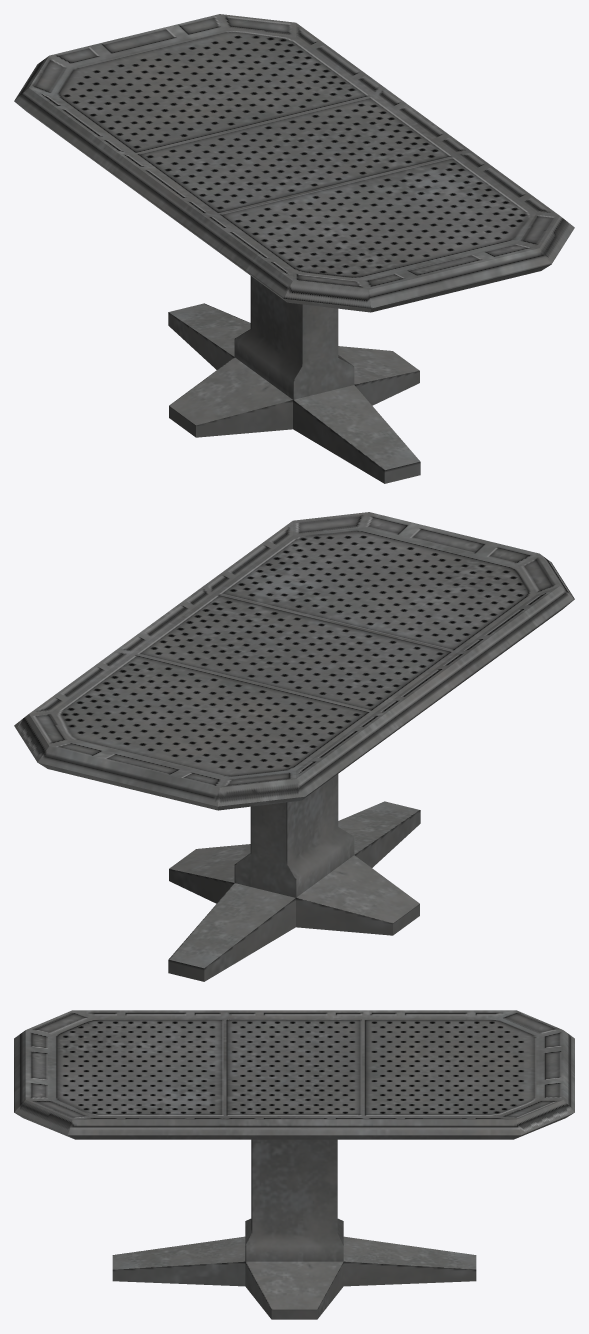
File: Obj_SurgicalTable.FBX
3 renders of one model, top to bottom at view 1: azimuth 30°, elevation 25°; view 2: azimuth 150°, elevation 25°; view 3: azimuth 270°, elevation 25°, orthographic. The views are drawn at different scales.
Visible parts, largest first — view 1: SurgicalTable; view 2: SurgicalTable; view 3: SurgicalTable.
Part boxes in pixels (x1,y1,x2,y2): SurgicalTable: [14, 14, 574, 483]; SurgicalTable: [14, 512, 574, 981]; SurgicalTable: [14, 1010, 574, 1319].
Bounding box in the file's own units: 1.34 × 1.09 × 2.66.
